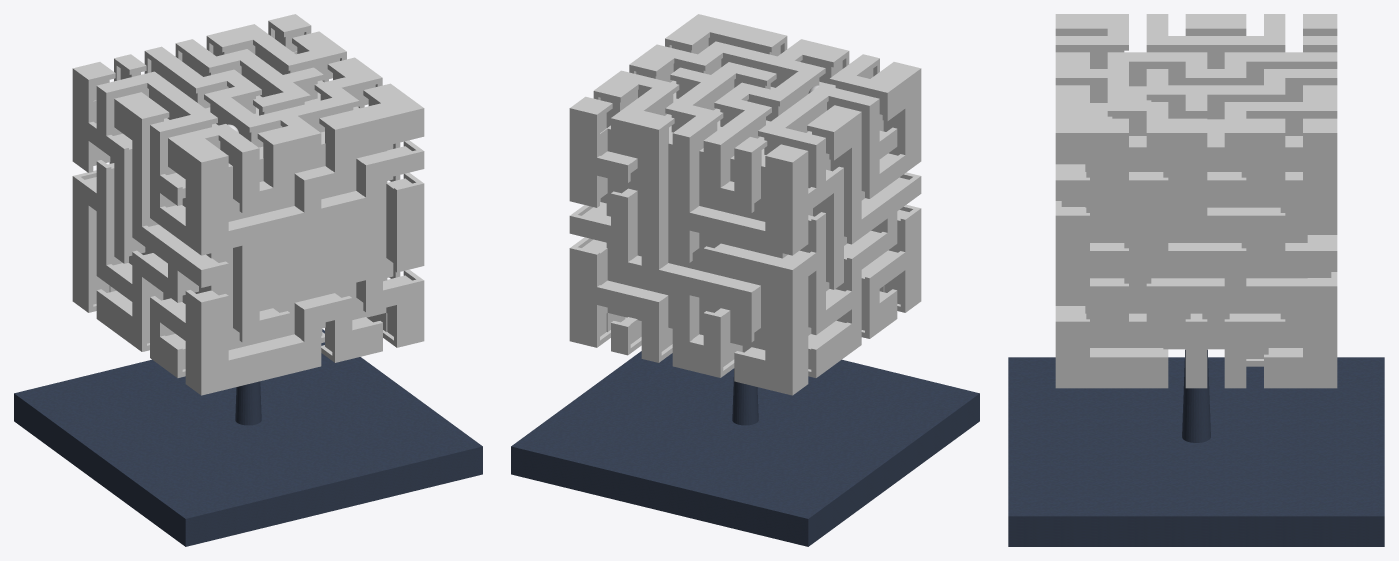
Rendered from Trophée.glb.
3 renders of one model, left to right at view 1: azimuth 30°, elevation 25°; view 2: azimuth 150°, elevation 25°; view 3: azimuth 270°, elevation 25°, orthographic. The views are drawn at different scales.
Visible parts, largest first — view 1: Cube_Labyrinthe, Cube, Cylinder; view 2: Cube_Labyrinthe, Cube, Cylinder; view 3: Cube_Labyrinthe, Cube, Cylinder.
Boxes of the visible parts, x1,y1,x2,y2 form: Cube_Labyrinthe: (72,14,424,395); Cube: (14,329,482,546); Cylinder: (235,381,261,425); Cube_Labyrinthe: (569,14,921,395); Cube: (511,351,979,546); Cylinder: (732,368,758,425); Cube_Labyrinthe: (1055,14,1337,388); Cube: (1008,357,1384,546); Cylinder: (1182,349,1210,442).
Bounding box in the file's own units: 13.35 × 15.43 × 13.35.
Materials: 4 (2 with a texture image).
